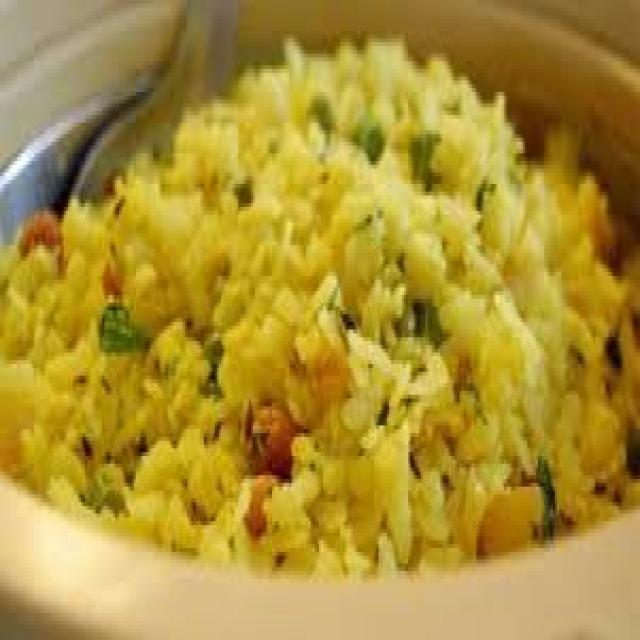POHA: (0, 38, 638, 575)
